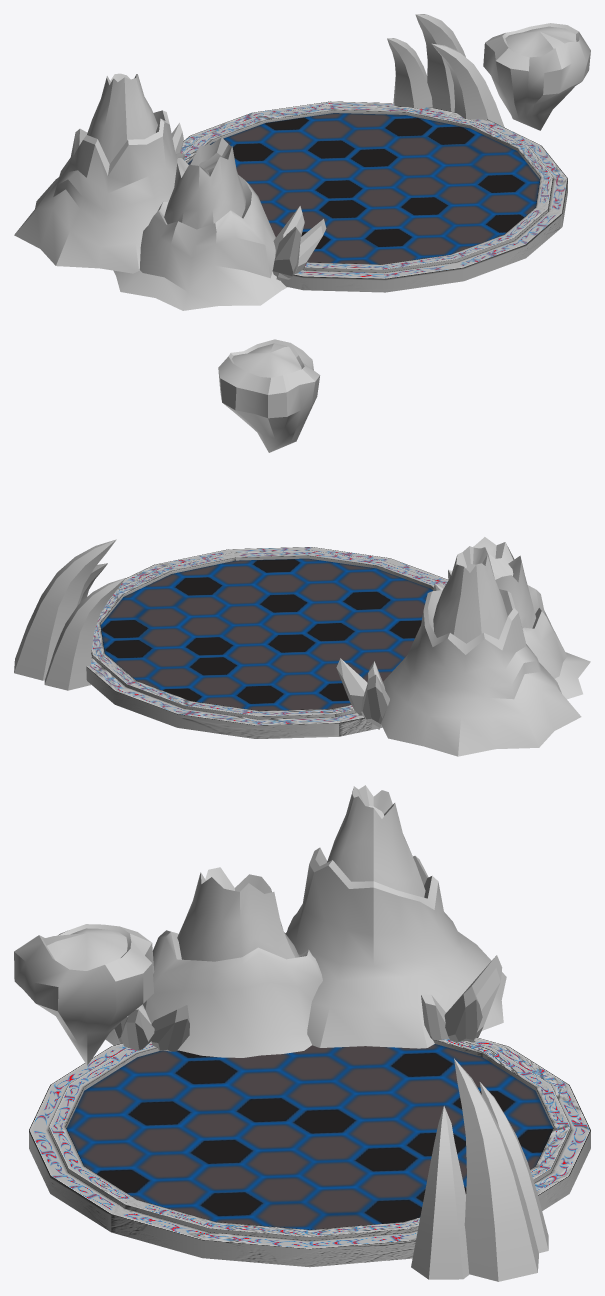
The model's file is 230306stage_lark.fbx.
3 renders of one model, top to bottom at view 1: azimuth 30°, elevation 25°; view 2: azimuth 150°, elevation 25°; view 3: azimuth 270°, elevation 25°, orthographic. The views are drawn at different scales.
Visible parts, largest first — view 1: Circle, Circle.001, Circle.002, Circle.006, Circle.005, Plane.001; view 2: Circle, Circle.001, Circle.005, Circle.006, Circle.002, Plane.002; view 3: Circle, Circle.001, Circle.002, Circle.005, Circle.006, Plane.002, Plane.001.
Boxes of the visible parts, bbox=[...] form: Circle: bbox=[181, 101, 567, 292]; Circle.001: bbox=[14, 73, 177, 273]; Circle.002: bbox=[113, 137, 287, 310]; Circle.006: bbox=[483, 23, 590, 130]; Circle.005: bbox=[387, 14, 504, 127]; Plane.001: bbox=[272, 206, 326, 280]; Circle: bbox=[86, 547, 448, 738]; Circle.001: bbox=[381, 546, 581, 756]; Circle.005: bbox=[14, 539, 125, 690]; Circle.006: bbox=[218, 339, 320, 452]; Circle.002: bbox=[473, 537, 590, 699]; Plane.002: bbox=[336, 658, 389, 729]; Circle: bbox=[29, 1037, 590, 1267]; Circle.001: bbox=[285, 785, 506, 1048]; Circle.002: bbox=[105, 867, 322, 1057]; Circle.005: bbox=[411, 1058, 548, 1281]; Circle.006: bbox=[14, 924, 154, 1065]; Plane.002: bbox=[421, 955, 502, 1042]; Plane.001: bbox=[114, 1004, 189, 1051].
Size of the model in its own units: 311 by 129 by 236.
